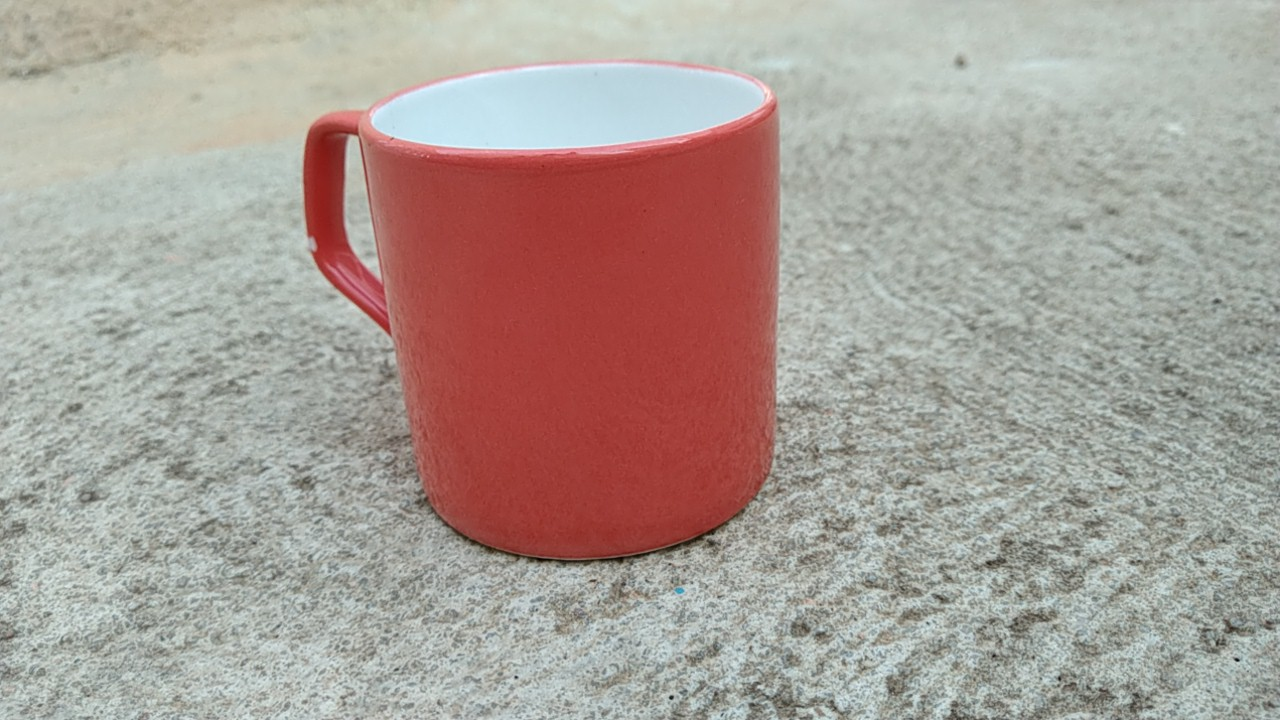cup: (296, 47, 803, 567)
